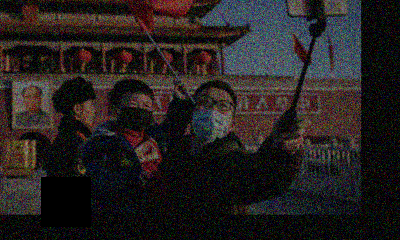with_mask: (190, 92, 232, 141), (118, 97, 153, 129)
without_mask: (80, 99, 95, 125)
